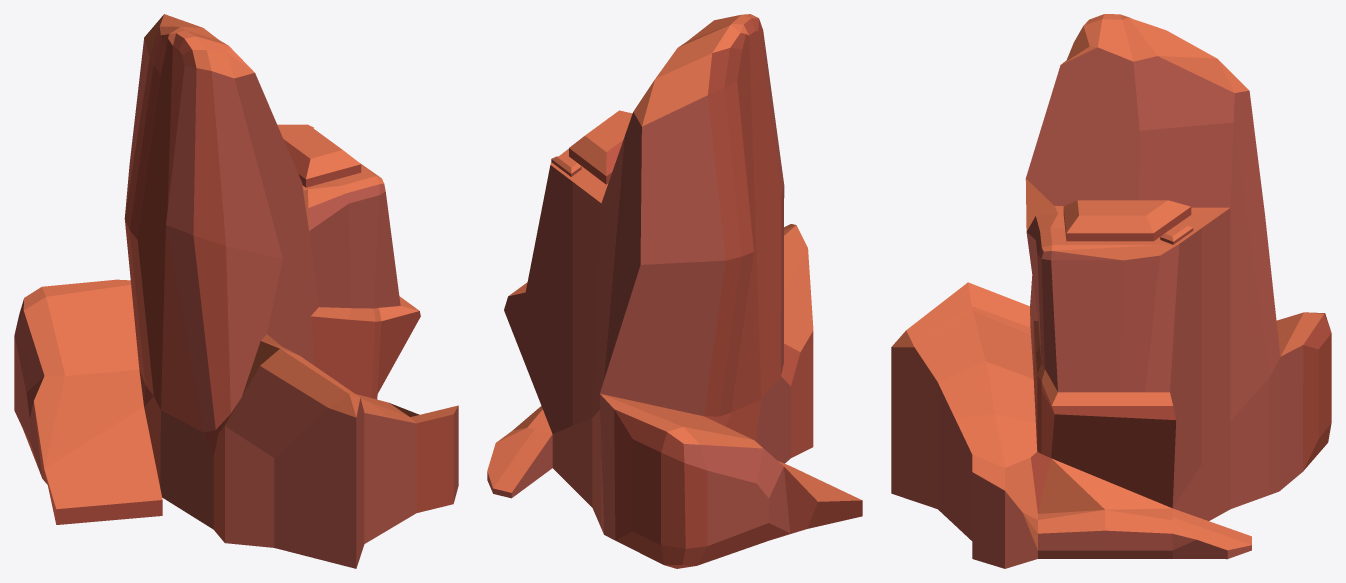
Rendered from midlde stone.fbx.
3 views of the same model, side by side, from view 1: azimuth 30°, elevation 25°; view 2: azimuth 150°, elevation 25°; view 3: azimuth 270°, elevation 25° (orthographic). The views are drawn at different scales.
Parts seen in each view (by area): view 1: Cube; view 2: Cube; view 3: Cube.
Part boxes in pixels (box(x1,y1,x2,y2)): Cube: box(14, 14, 458, 568); Cube: box(487, 14, 862, 568); Cube: box(891, 14, 1331, 568).
Bounding box in the file's own units: 861 × 1119 × 989.
